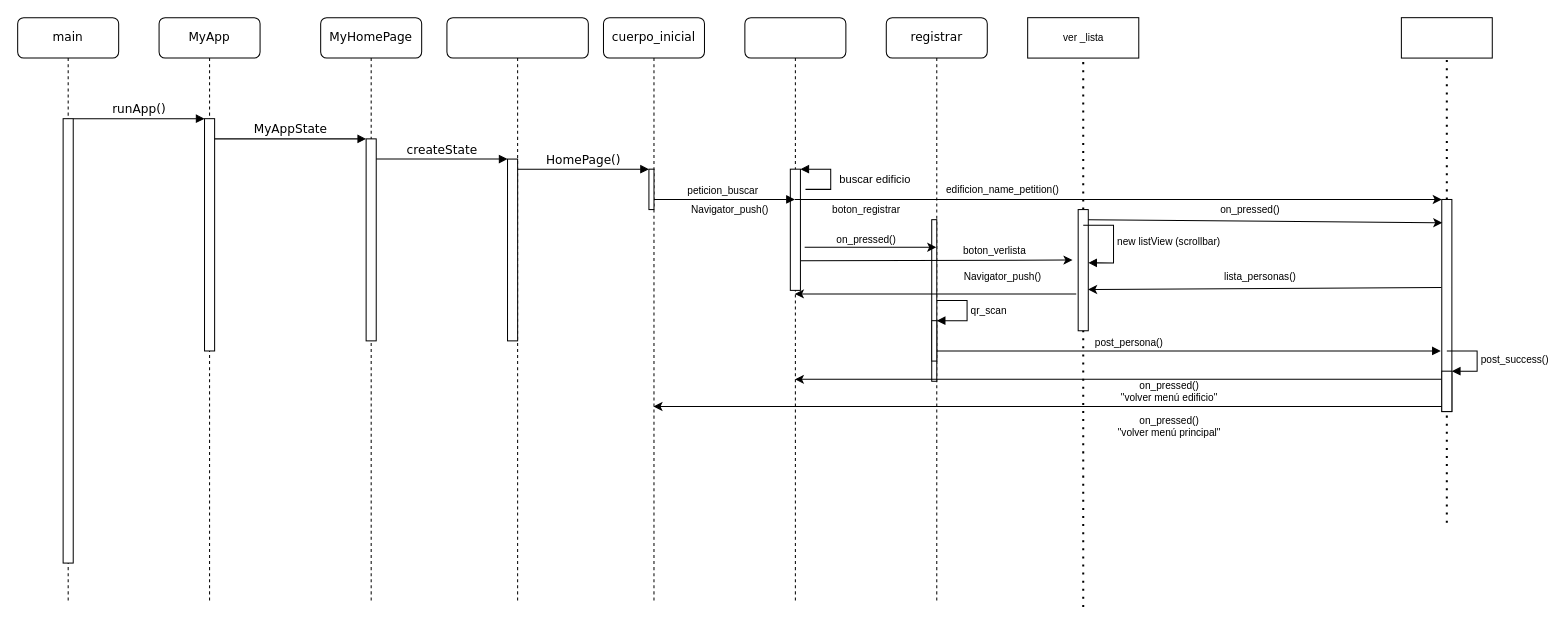
Image size: 1567x626. Some labels were removed from this diagram. Here are the shapes that lost their labels. From the top down, the box of each, then its label:
(1400, 17, 1492, 58): db
(446, 17, 588, 603): _MyHomePageState
(744, 17, 846, 603): menu edificio
